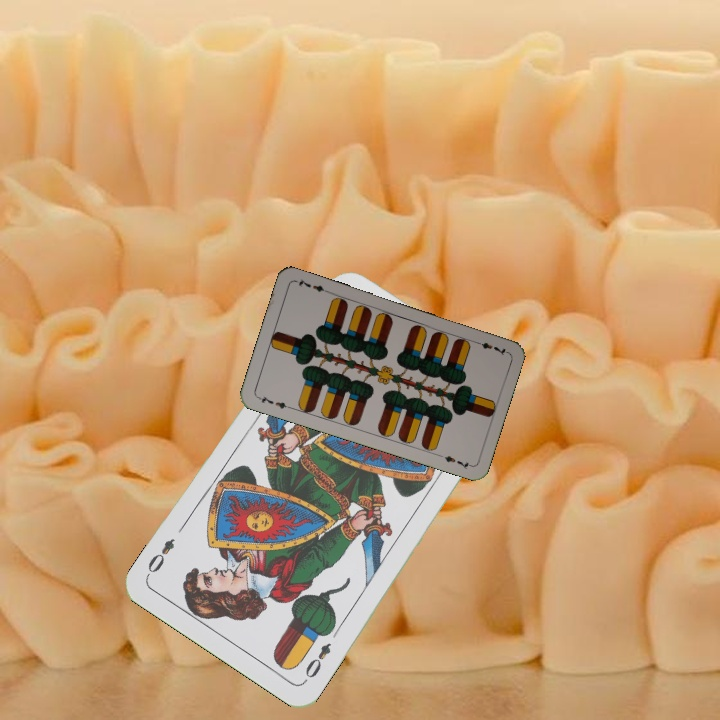E7: (470, 336, 509, 358), (254, 391, 293, 412)
EO: (300, 638, 334, 681)
